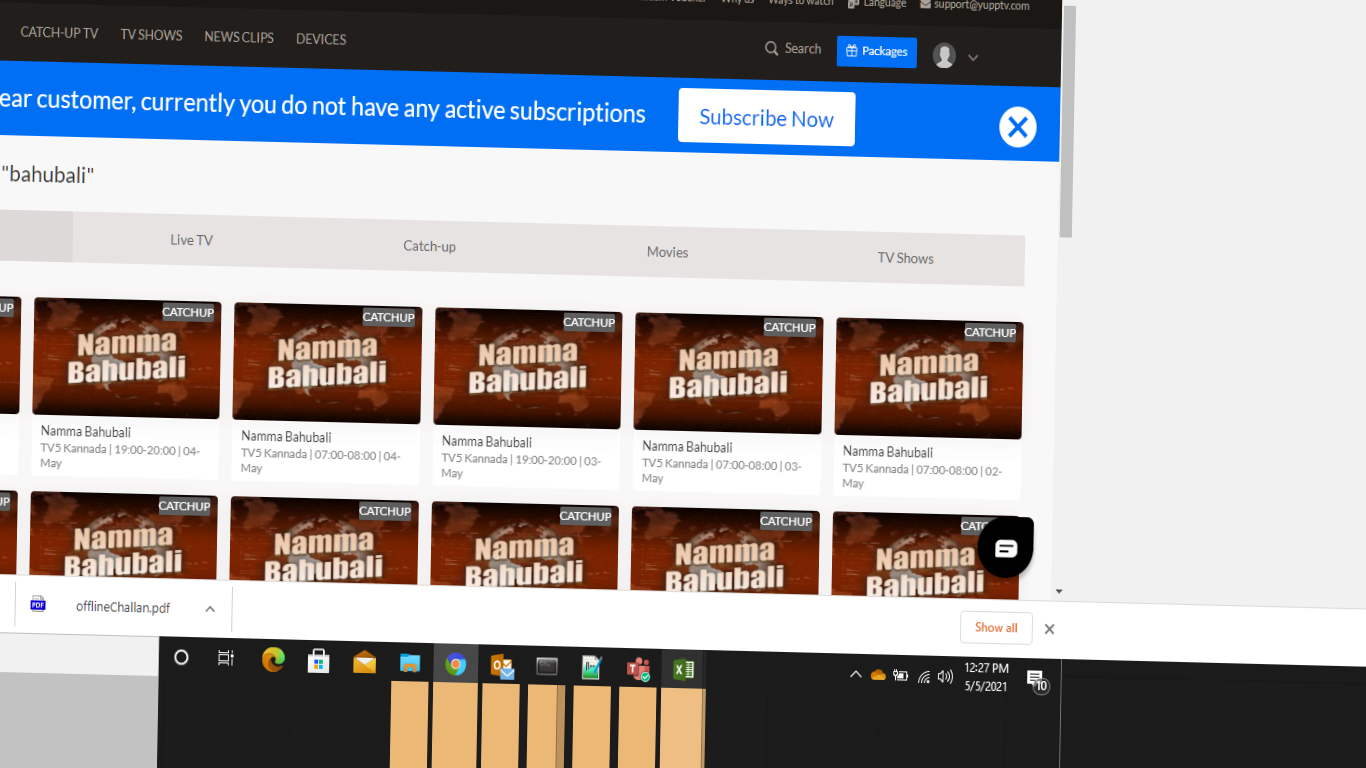profileicon: (922, 30, 977, 79)
resultsfound: (4, 145, 105, 196)
searchicon: (755, 30, 822, 67)
